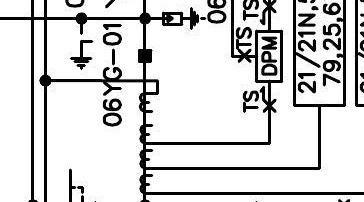115_gs: (69, 30, 94, 71)
115_la: (162, 6, 207, 31)
DPM: (255, 30, 283, 83)
